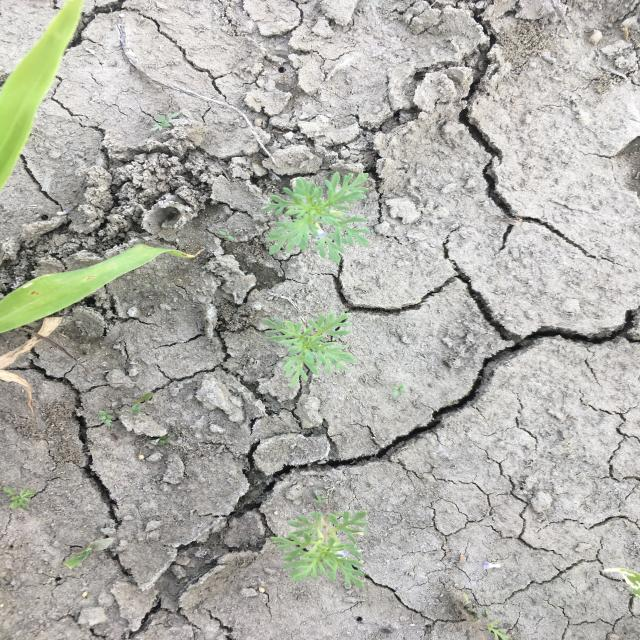Ragweed: (258, 170, 375, 265), (267, 509, 371, 592), (260, 310, 360, 390)
